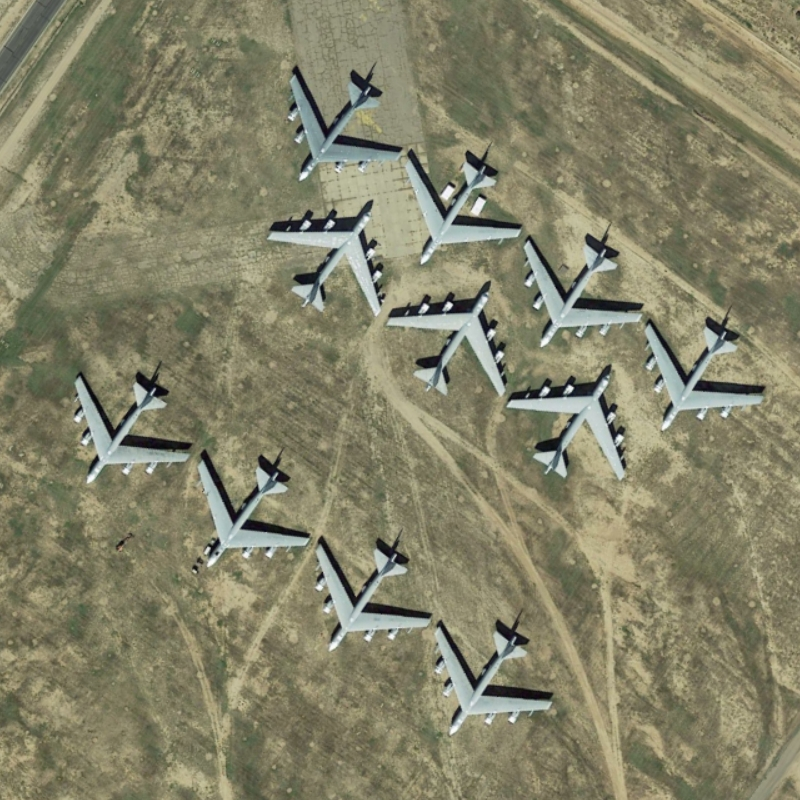A8: (502, 361, 642, 485), (279, 63, 405, 187), (644, 313, 770, 436), (311, 532, 437, 654), (402, 148, 526, 271), (387, 282, 515, 401), (264, 199, 390, 316), (525, 232, 646, 352), (436, 618, 557, 738), (69, 367, 190, 485), (193, 451, 313, 564)
